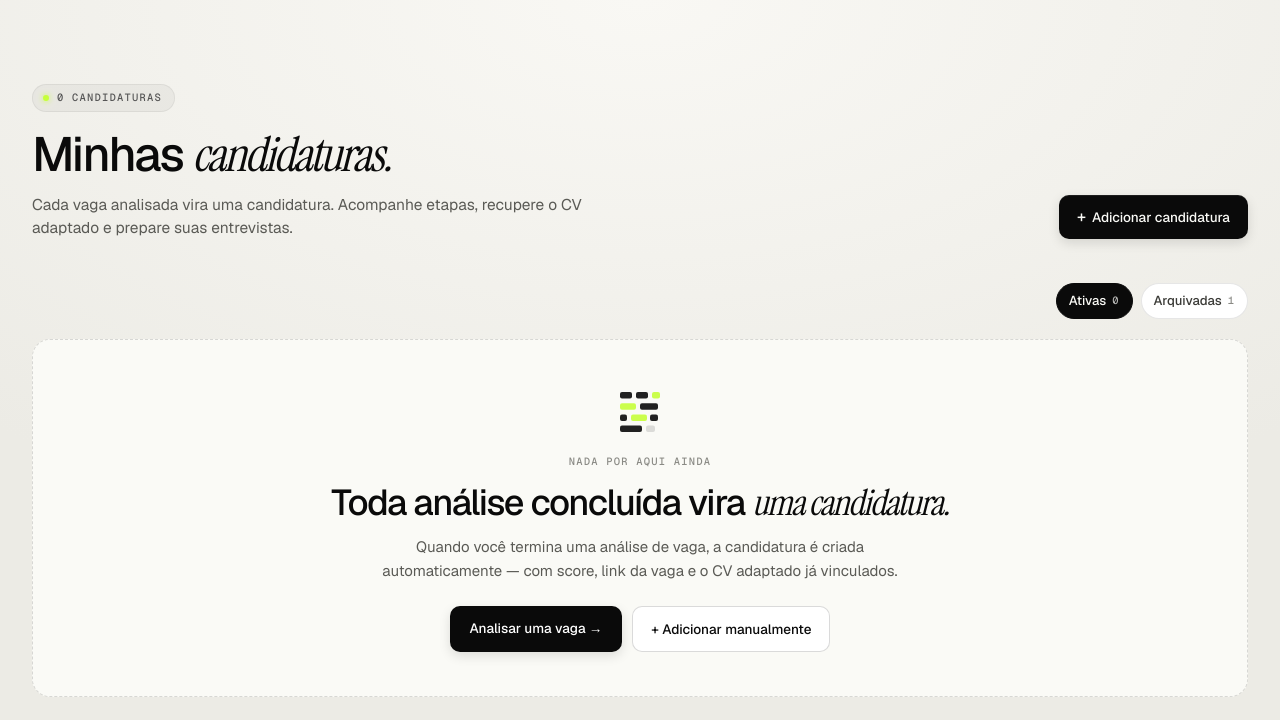
Test: CandidaturasClient › abas Ativas/Arquivadas ficam na linha dos filtros e aparecem mesmo com ativas vazia
What coordinates should you click on to do the following:
click the button "Arquivadas 1"
I would click on:
 (1194, 301)
Its box is [1141,283,1248,319].
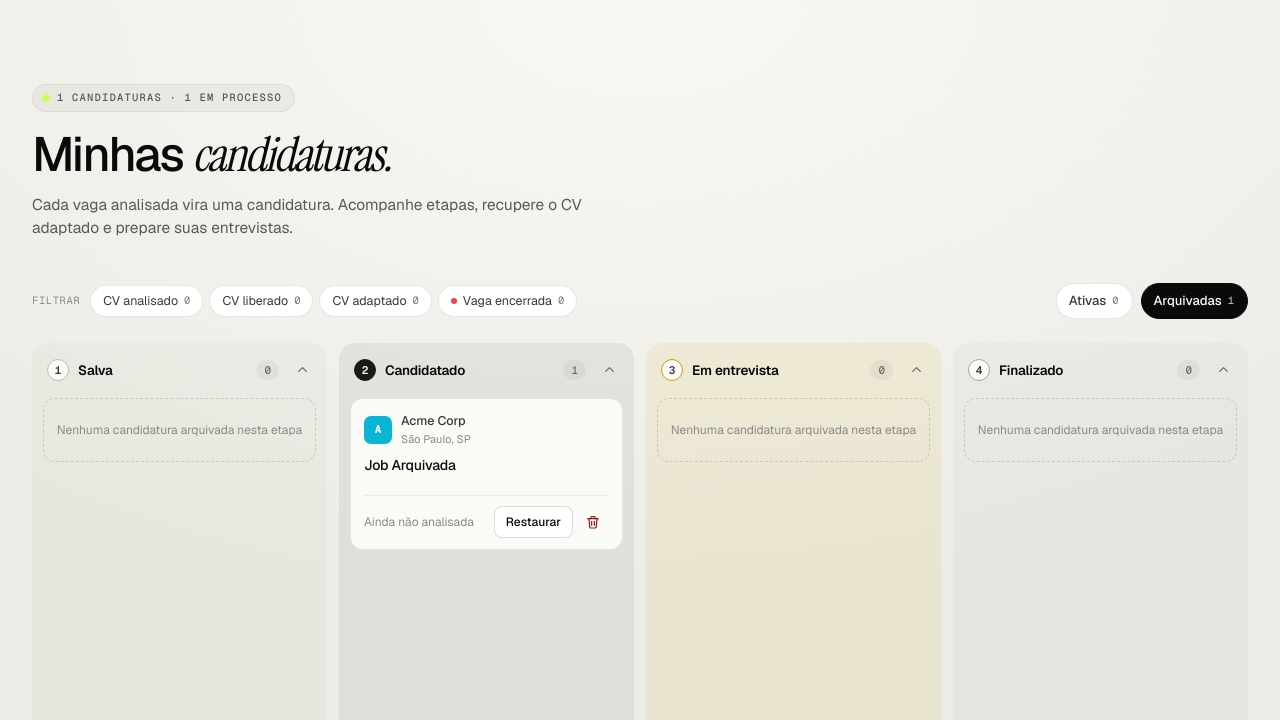
Now the link "Job Arquivada" is shown, box [364,456,456,474]
Now the element named "Filtrar candidaturas" is shown, box [32,285,577,317]
